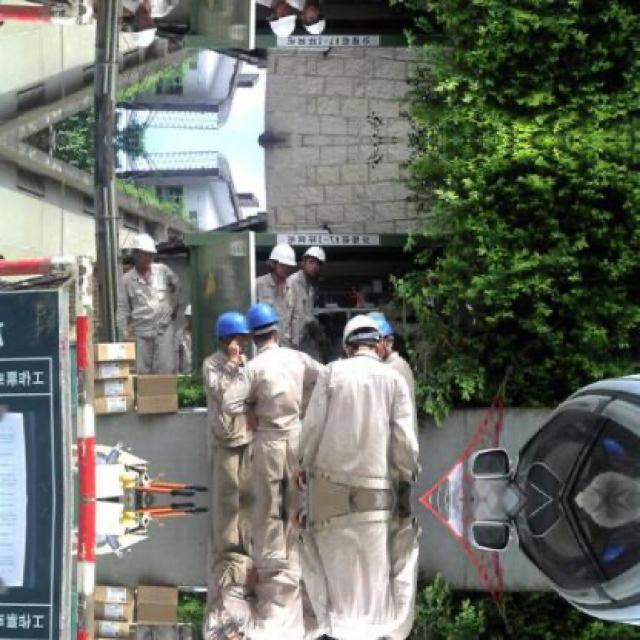helmet: (343, 313, 394, 364), (214, 310, 254, 367), (246, 302, 283, 352), (123, 232, 155, 272), (123, 10, 155, 50), (266, 242, 296, 278), (266, 5, 296, 40), (302, 6, 328, 39), (302, 244, 328, 276), (376, 310, 384, 359)
